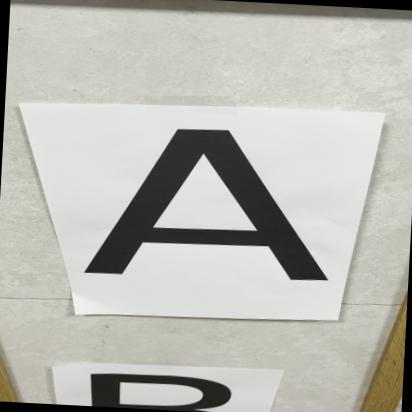seat: (75, 116, 349, 294)
